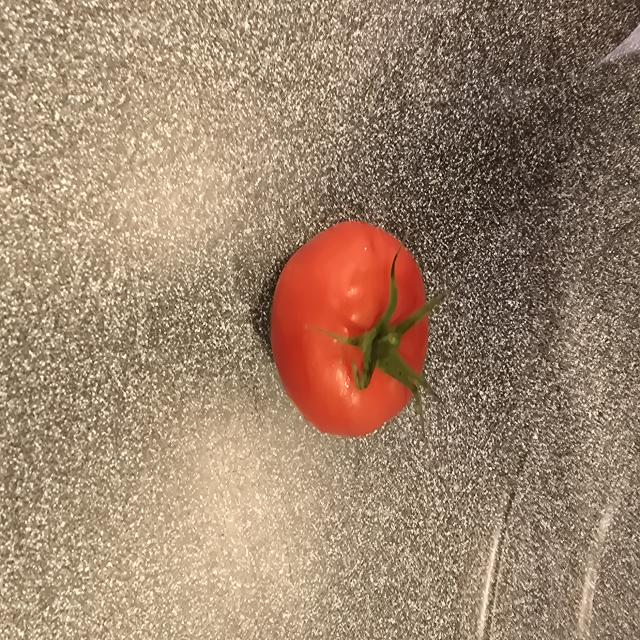Tomato: (271, 222, 429, 436)
